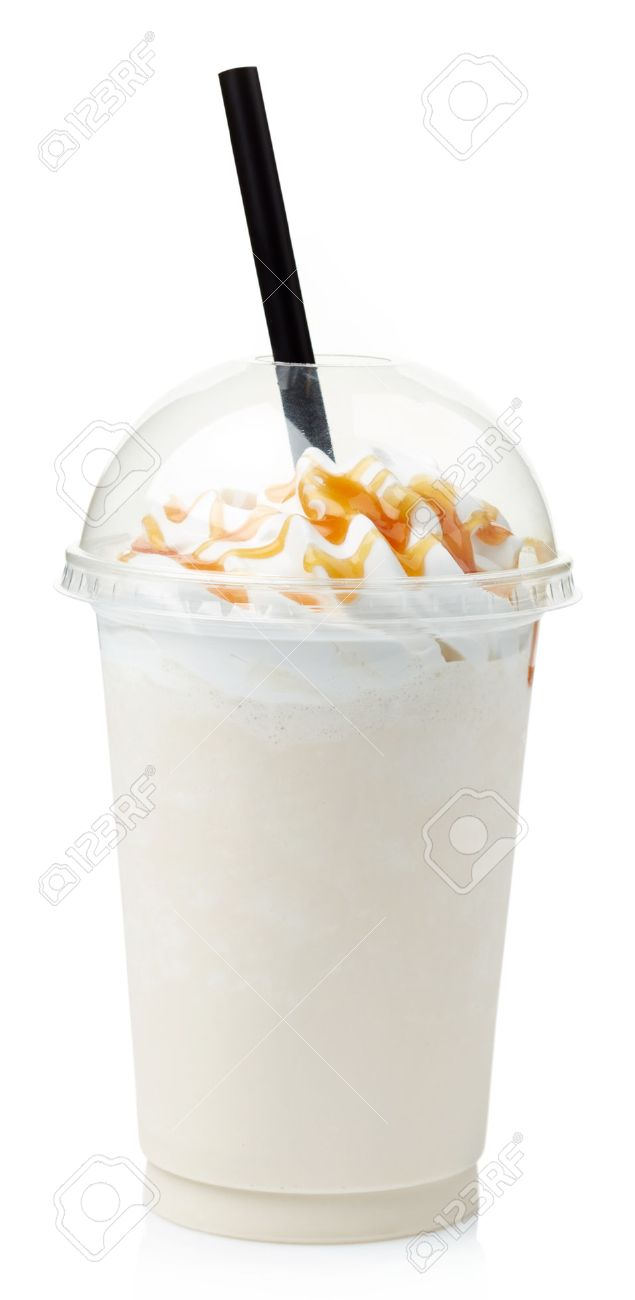plastic_glass: (30, 338, 632, 1268)
